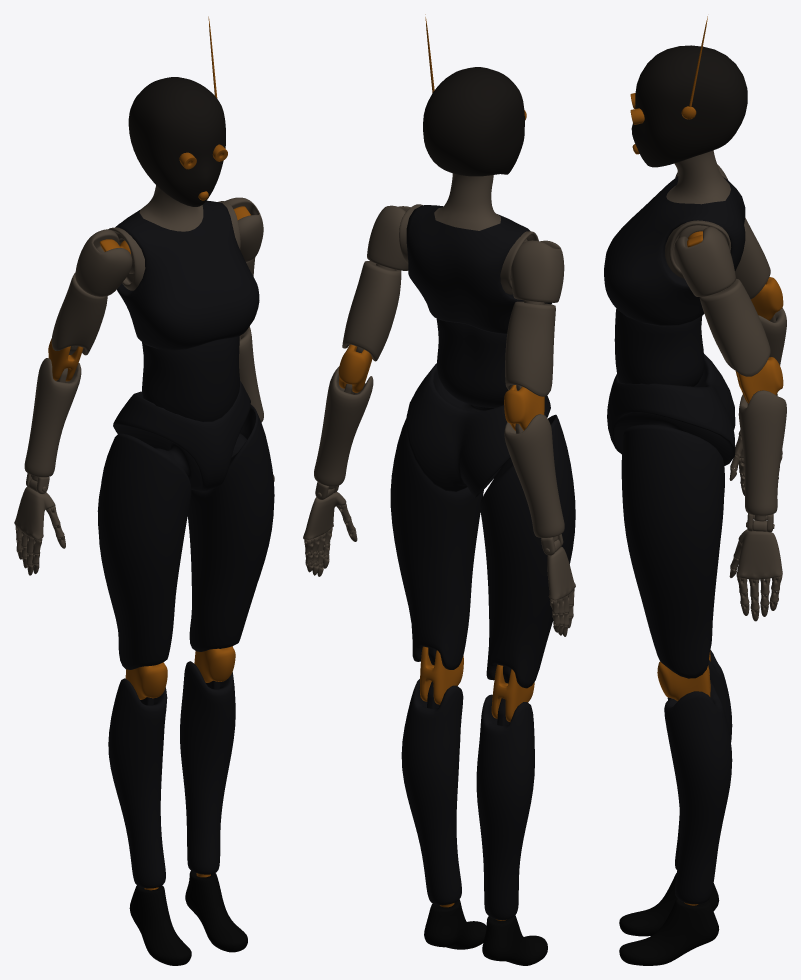
The model's file is static_robot_normal.glb.
3 views of the same model, side by side, from view 1: azimuth 30°, elevation 25°; view 2: azimuth 150°, elevation 25°; view 3: azimuth 270°, elevation 25° (orthographic). The views are drawn at different scales.
Parts seen in each view (by area): view 1: static_robot_body_normal; view 2: static_robot_body_normal; view 3: static_robot_body_normal.
Part boxes in pixels (left/top/right/bottom): static_robot_body_normal: left=14, top=16, right=274, bottom=965; static_robot_body_normal: left=303, top=14, right=575, bottom=965; static_robot_body_normal: left=604, top=16, right=786, bottom=965.
Bounding box in the file's own units: 0.4834 × 1.71 × 0.2984.
